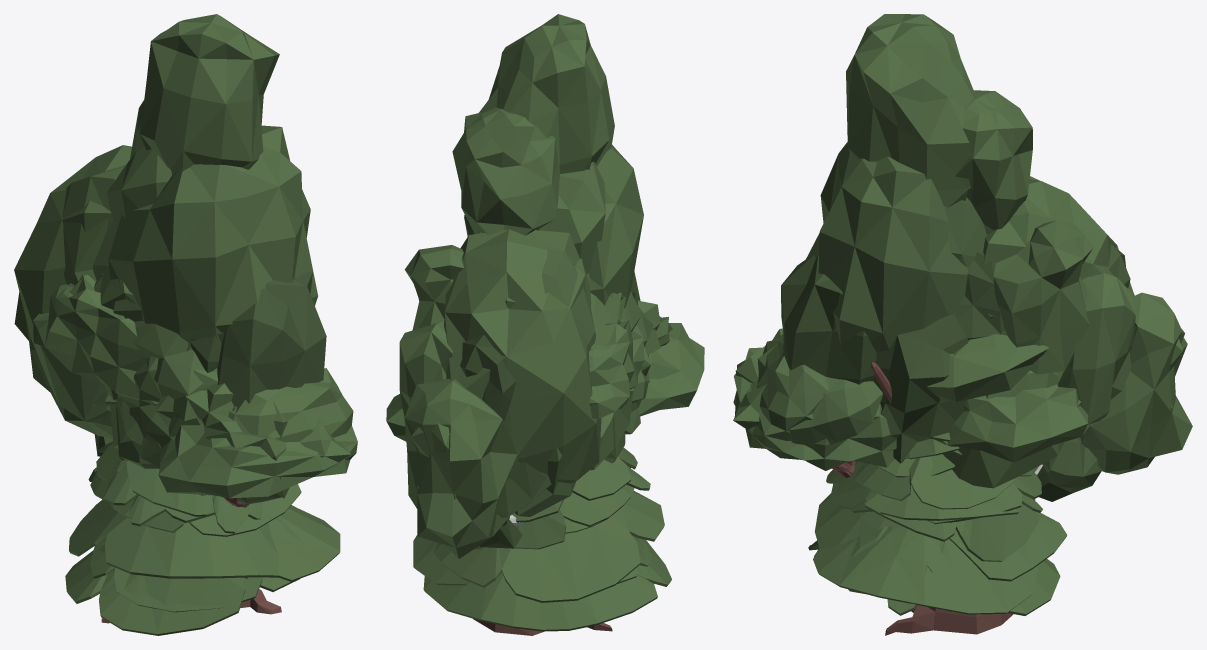
Rendered from trees.glb.
3 renders of one model, left to right at view 1: azimuth 30°, elevation 25°; view 2: azimuth 150°, elevation 25°; view 3: azimuth 270°, elevation 25°, orthographic. The views are drawn at different scales.
Parts seen in each view (by area): view 1: birch_1, birch_4, oak_0, pine_1, pine_2, birch_0, oak_1, oak_3, pine_0, birch_3, birch_2, oak_4 (+2 smaller); view 2: birch_0, birch_4, birch_3, pine_1, pine_2, birch_1, oak_0, birch_2, oak_3, oak_1, pine_0, oak_4 (+1 smaller); view 3: birch_4, birch_1, birch_0, oak_0, pine_0, birch_3, oak_1, birch_2, pine_1, pine_2, pine_4, oak_2 (+1 smaller).
Boxes of the visible parts, left/top/right/bottom form: birch_1: left=108, top=125, right=326, bottom=407; birch_4: left=130, top=14, right=279, bottom=174; oak_0: left=158, top=368, right=357, bottom=498; pine_1: left=69, top=440, right=279, bottom=578; pine_2: left=65, top=405, right=302, bottom=635; birch_0: left=14, top=145, right=159, bottom=468; oak_1: left=94, top=268, right=351, bottom=507; oak_3: left=33, top=274, right=158, bottom=405; pine_0: left=90, top=484, right=340, bottom=612; birch_3: left=14, top=165, right=281, bottom=504; birch_2: left=106, top=147, right=171, bottom=321; oak_4: left=104, top=356, right=287, bottom=495; birch_0: left=399, top=229, right=625, bottom=548; birch_4: left=404, top=14, right=614, bottom=330; birch_3: left=404, top=230, right=635, bottom=558; pine_1: left=433, top=447, right=664, bottom=602; pine_2: left=423, top=466, right=671, bottom=631; birch_1: left=464, top=144, right=643, bottom=308; oak_0: left=386, top=323, right=704, bottom=441; birch_2: left=473, top=162, right=625, bottom=324; oak_3: left=589, top=317, right=637, bottom=418; oak_1: left=590, top=292, right=672, bottom=376; pine_0: left=413, top=484, right=652, bottom=585; oak_4: left=625, top=325, right=650, bottom=404; birch_4: left=846, top=14, right=1093, bottom=374; birch_1: left=781, top=142, right=967, bottom=384; birch_0: left=943, top=179, right=1184, bottom=501; oak_0: left=733, top=333, right=1090, bottom=473; pine_0: left=809, top=454, right=1042, bottom=614; birch_3: left=1016, top=176, right=1192, bottom=474; oak_1: left=733, top=328, right=1048, bottom=478; birch_2: left=873, top=197, right=987, bottom=463; pine_1: left=814, top=432, right=1067, bottom=593; pine_2: left=808, top=450, right=1060, bottom=615; pine_4: left=854, top=438, right=1013, bottom=509; oak_2: left=953, top=252, right=1006, bottom=339.
Bounding box in the file's own units: 3.47 × 8.01 × 5.7.
